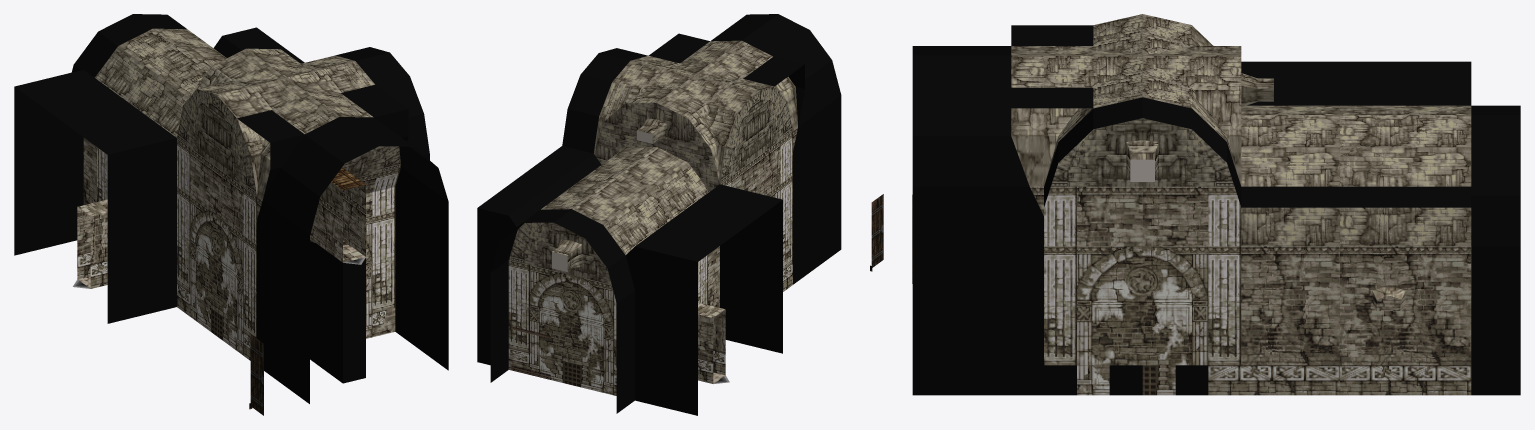
The model's file is MAP049.obj.
The picture shows the model from 3 angles, left to right: view 1: azimuth 30°, elevation 25°; view 2: azimuth 150°, elevation 25°; view 3: azimuth 270°, elevation 25°; orthographic projection. The views are drawn at different scales.
Parts seen in each view (by area): view 1: mesh_63, mesh_62, mesh_53, mesh_85, mesh_41, mesh_61, mesh_46, mesh_83, mesh_60, mesh_84, mesh_43, mesh_79 (+21 smaller); view 2: mesh_53, mesh_63, mesh_62, mesh_61, mesh_60, mesh_72, mesh_41, mesh_12, mesh_46, mesh_14, mesh_19, mesh_84 (+15 smaller); view 3: mesh_62, mesh_53, mesh_74, mesh_76, mesh_60, mesh_23, mesh_63, mesh_61, mesh_20, mesh_73, mesh_22, mesh_25 (+12 smaller).
Boxes of the visible parts, x1,y1,x2,y2 form: mesh_63: (14, 69, 176, 323); mesh_62: (257, 117, 448, 403); mesh_53: (95, 28, 374, 137); mesh_85: (310, 258, 365, 383); mesh_41: (177, 89, 256, 195); mesh_61: (213, 27, 429, 159); mesh_46: (77, 166, 243, 264); mesh_83: (190, 196, 243, 282); mesh_60: (71, 14, 186, 77); mesh_84: (83, 137, 230, 224); mesh_43: (97, 138, 256, 316); mesh_79: (372, 211, 395, 312); mesh_53: (541, 40, 773, 254); mesh_63: (626, 184, 782, 415); mesh_62: (710, 14, 841, 284); mesh_61: (477, 48, 647, 365); mesh_60: (490, 209, 634, 413); mesh_72: (530, 265, 613, 329); mesh_41: (720, 86, 792, 183); mesh_12: (509, 222, 611, 284); mesh_46: (698, 140, 780, 361); mesh_14: (551, 314, 613, 362); mesh_19: (530, 309, 613, 373); mesh_84: (708, 149, 768, 280); mesh_62: (912, 46, 1043, 395); mesh_53: (1011, 14, 1471, 186); mesh_74: (1241, 246, 1471, 365); mesh_76: (1077, 246, 1208, 365); mesh_60: (1471, 105, 1520, 395); mesh_23: (1077, 186, 1471, 365); mesh_63: (1241, 61, 1471, 105); mesh_61: (1044, 97, 1471, 207); mesh_20: (1051, 118, 1234, 186); mesh_73: (1044, 246, 1241, 365); mesh_22: (1241, 207, 1437, 246); mesh_25: (1208, 365, 1438, 395).
Bounding box in the file's own units: 134 × 130 × 237.
20 materials, 20 textured.
